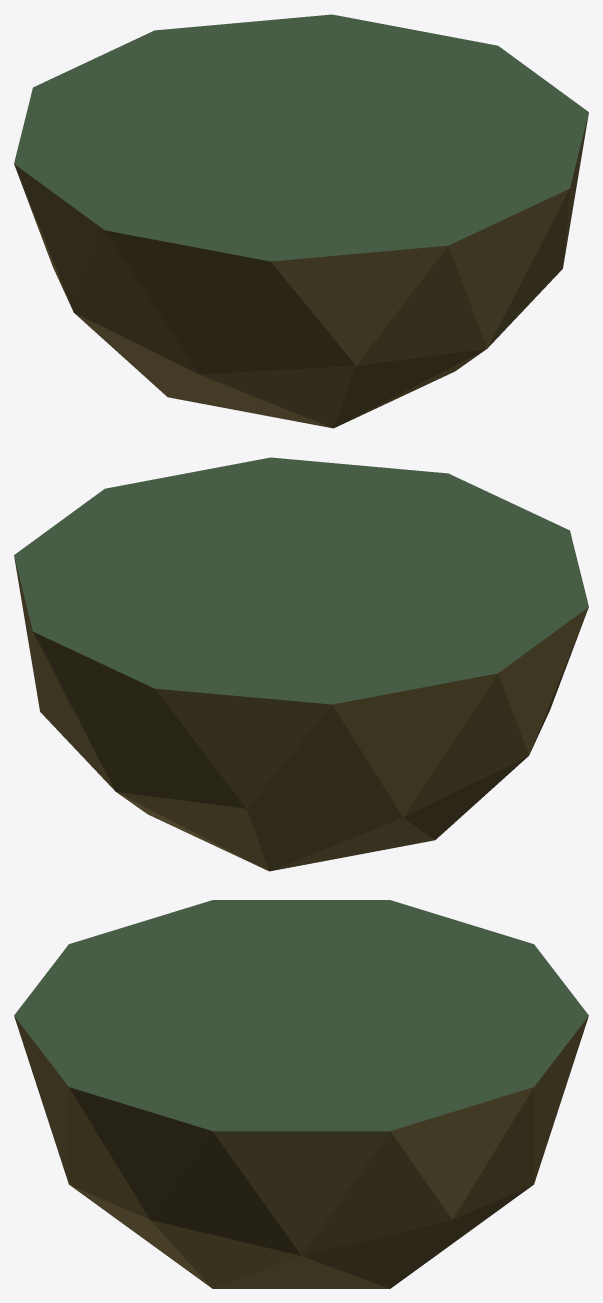
File: SmolIsland.fbx
3 views of the same model, one above another, from view 1: azimuth 30°, elevation 25°; view 2: azimuth 150°, elevation 25°; view 3: azimuth 270°, elevation 25° (orthographic). The views are drawn at different scales.
Parts seen in each view (by area): view 1: Icosphere; view 2: Icosphere; view 3: Icosphere.
Part boxes in pixels (x1,y1,x2,y2): Icosphere: (14,14,588,428); Icosphere: (14,457,588,871); Icosphere: (14,900,588,1288).
Size of the model in its own units: 190 by 100 by 200.
